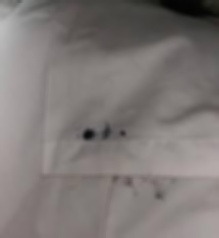ink: (119, 177, 166, 199), (76, 123, 131, 141)
